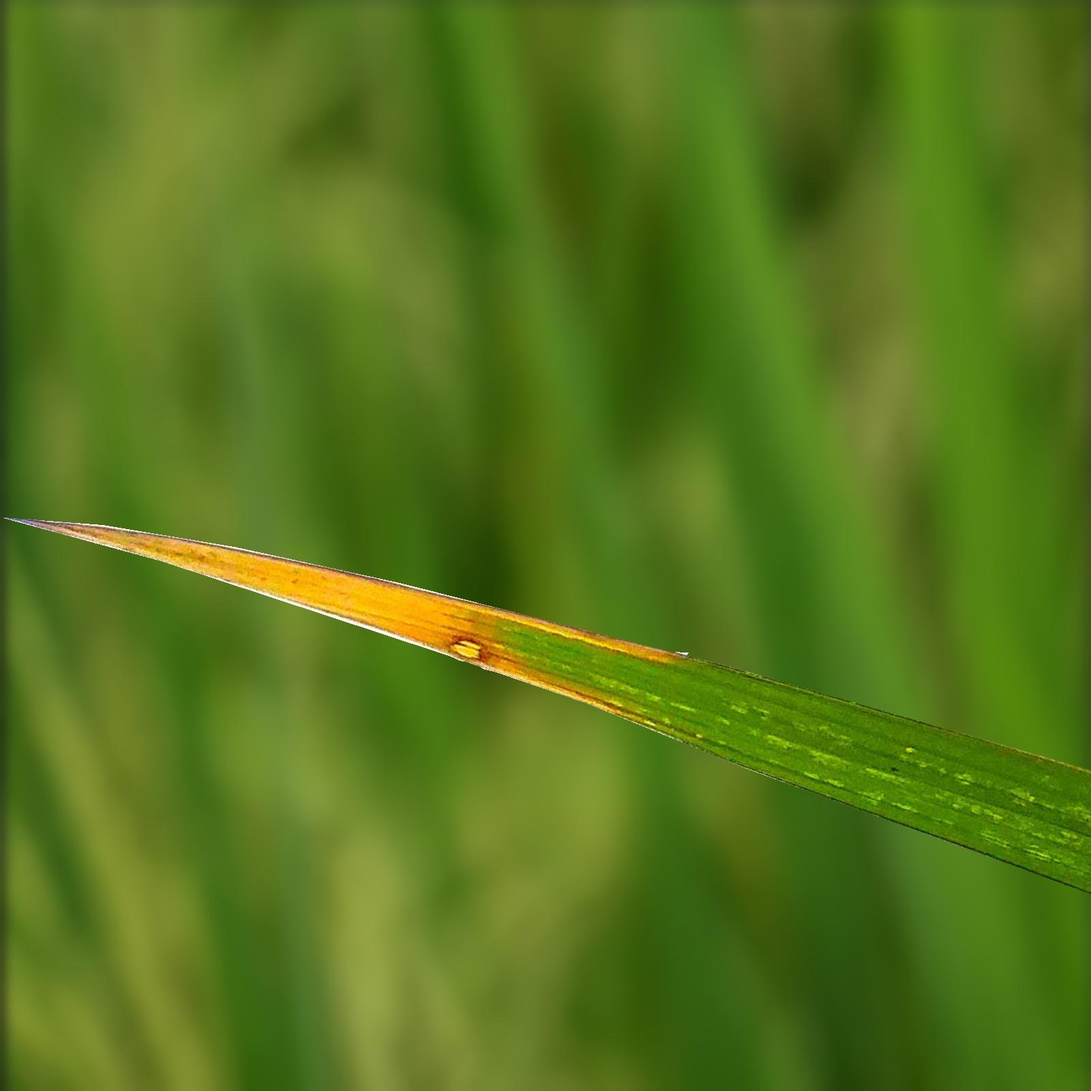BLB: (4, 518, 688, 728)
LEAF: (12, 519, 1090, 893)
